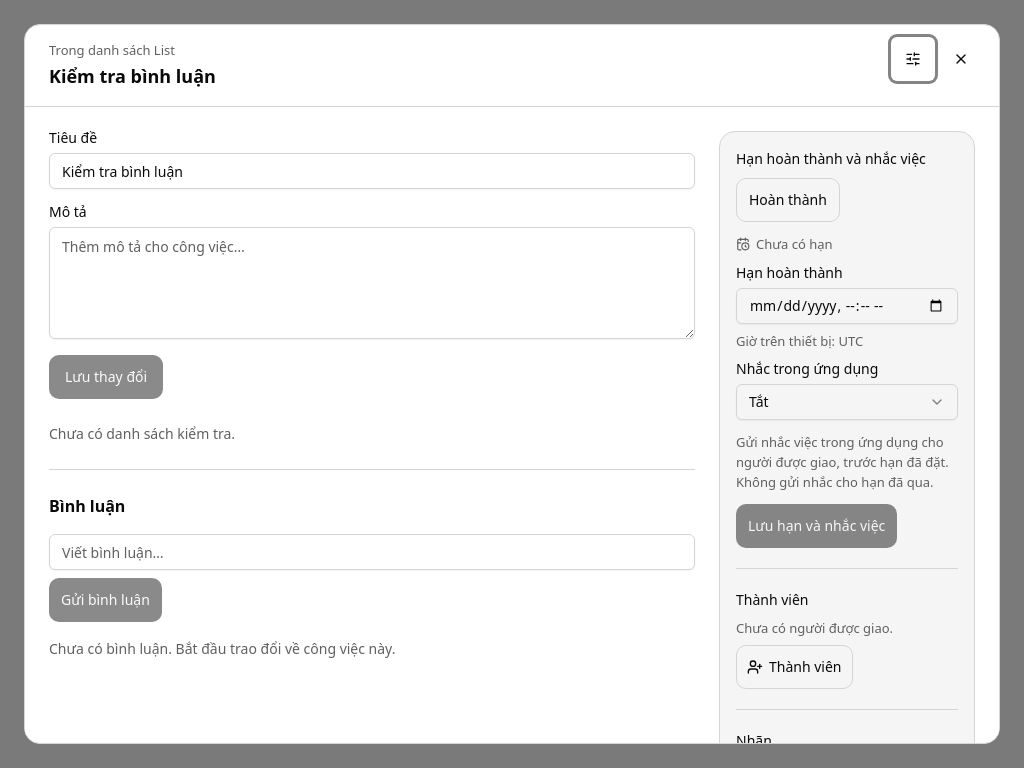
Test: retains title/description edits after PATCH failure
Check: the heading "Kiểm tra bình luận" is shown, box [49,63,216,90]
Replace the text in the field labelled "Tiêu đề" with "Tên nháp" at [372, 171], box [49,153,695,189]
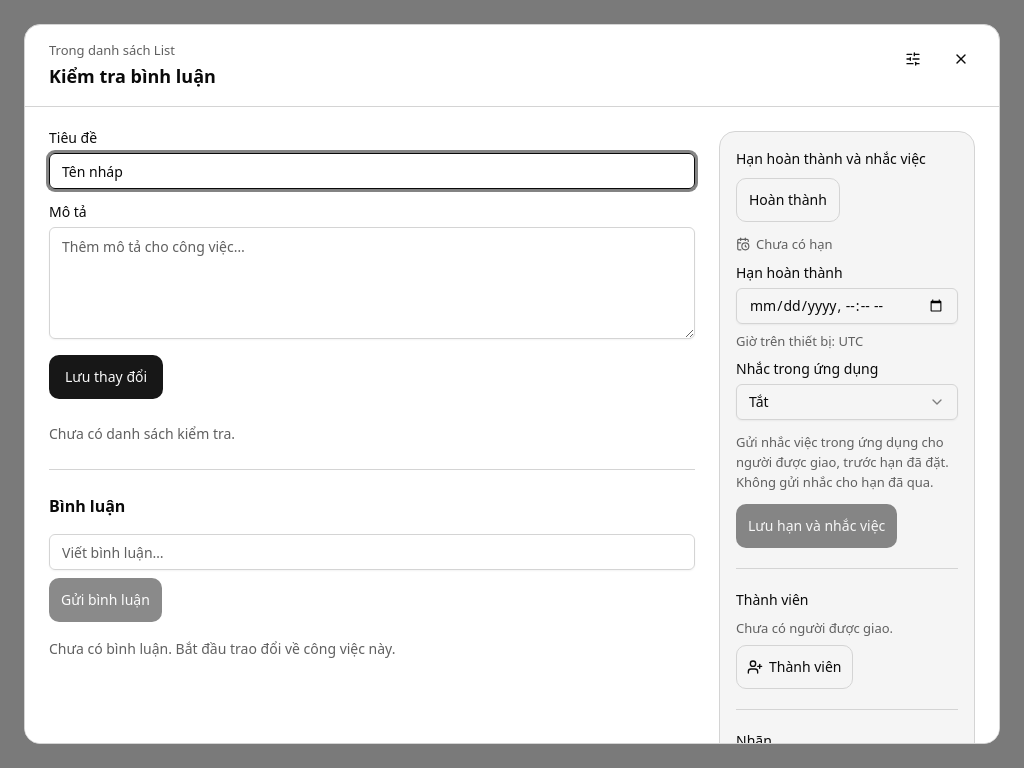
Type "Mô tả nháp" into the text box labelled "Mô tả" at [372, 283], box [49,227,695,339]
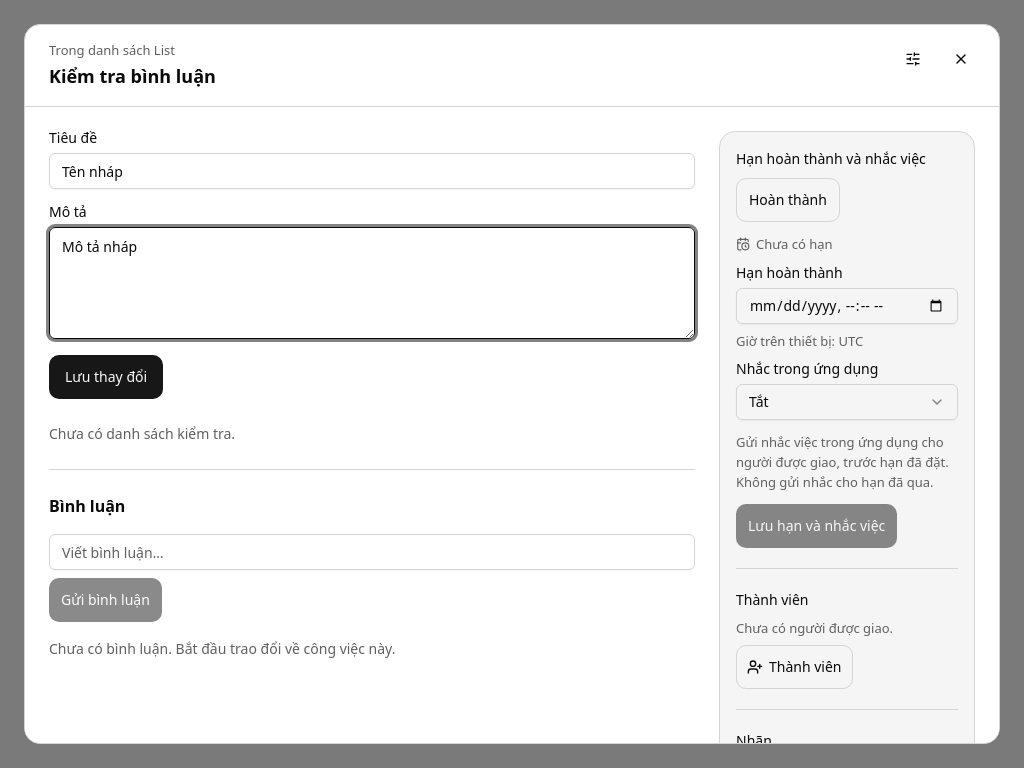
Click the button "Lưu thay đổi" at [106, 377], box [49,355,163,399]
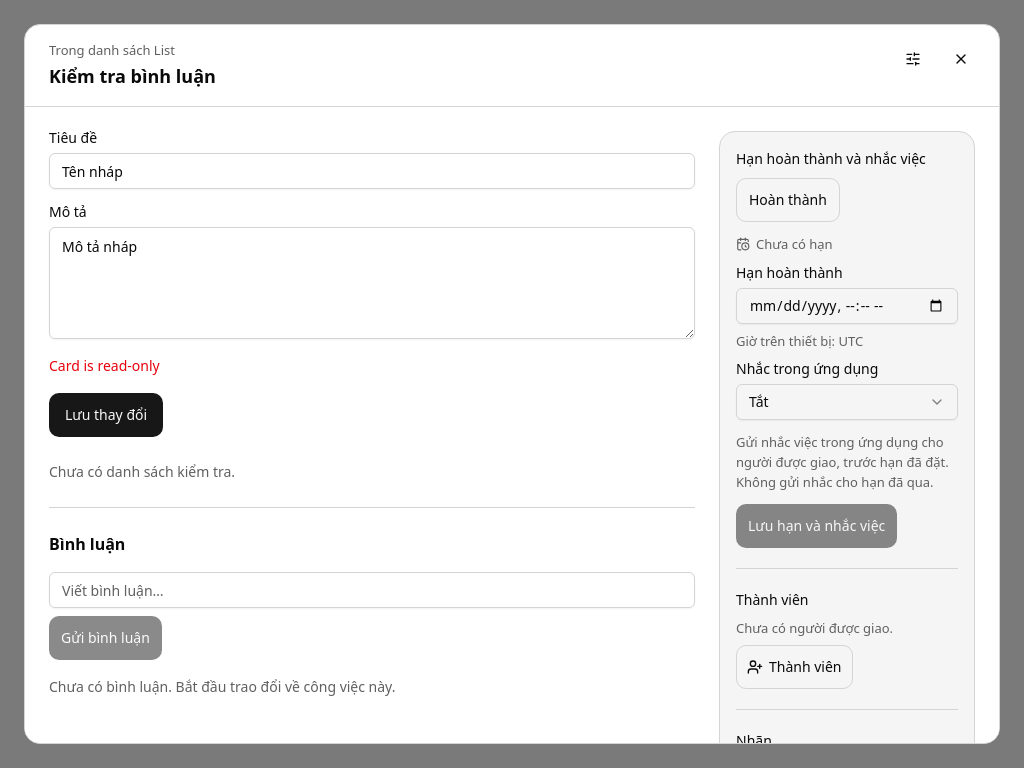
Check: the message reads "Card is read-only", box [49,356,160,375]
